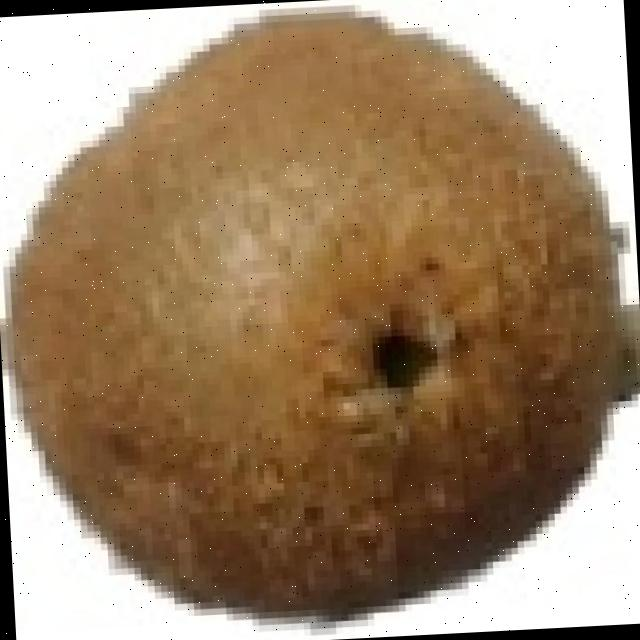kiwi: (12, 15, 640, 614)
